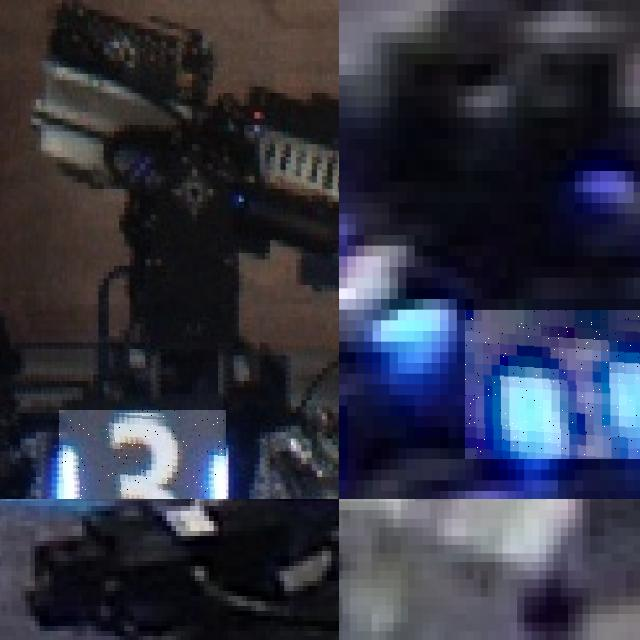B3: (59, 410, 225, 499)
B5: (465, 309, 640, 459)
